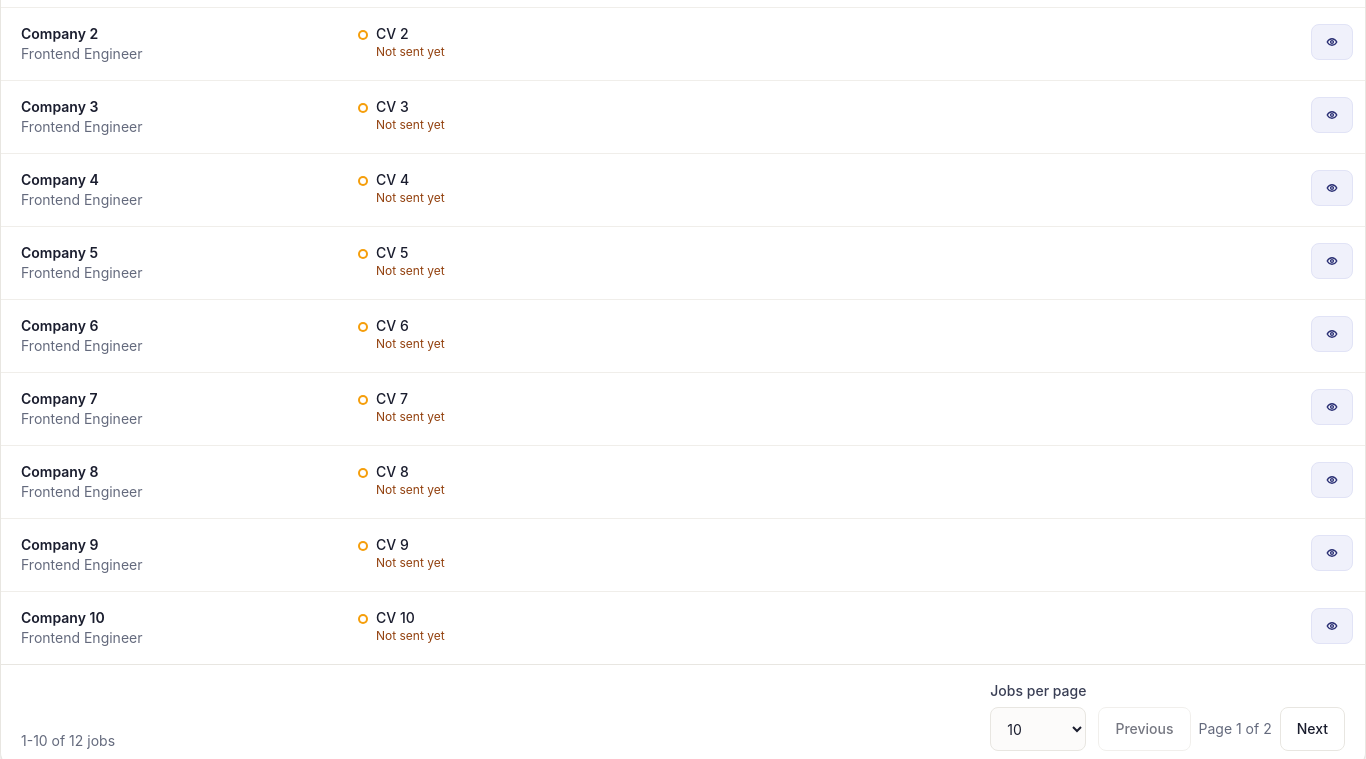
Test: ApplicationsPage › keeps paging and the chosen page size while a search narrows a long list
(page scrolled)
Select "25" in the dropdown labelled "Jobs per page" at (1038,729), box [990,707,1086,751]
(page scrolled)
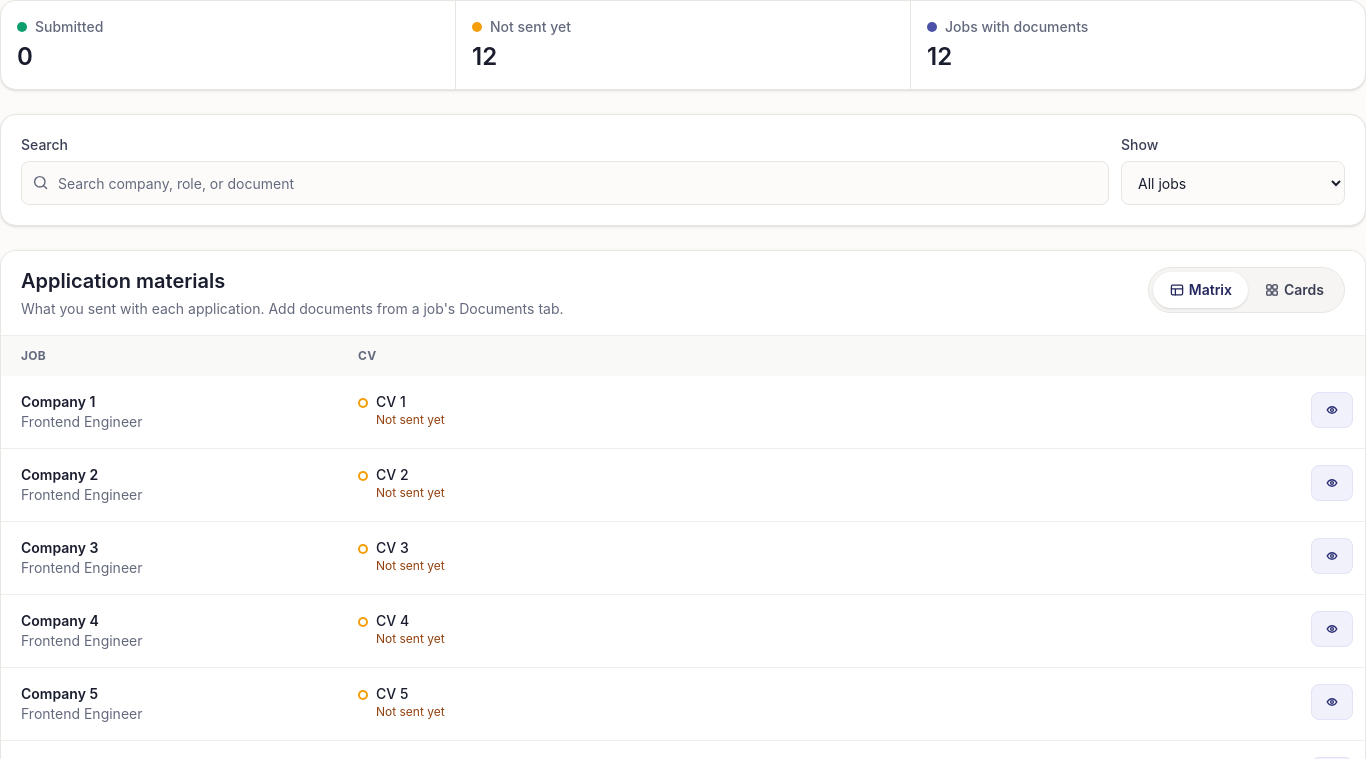
Type "Company 12" into the field labelled "Search" at (565,183), box [21,161,1109,205]
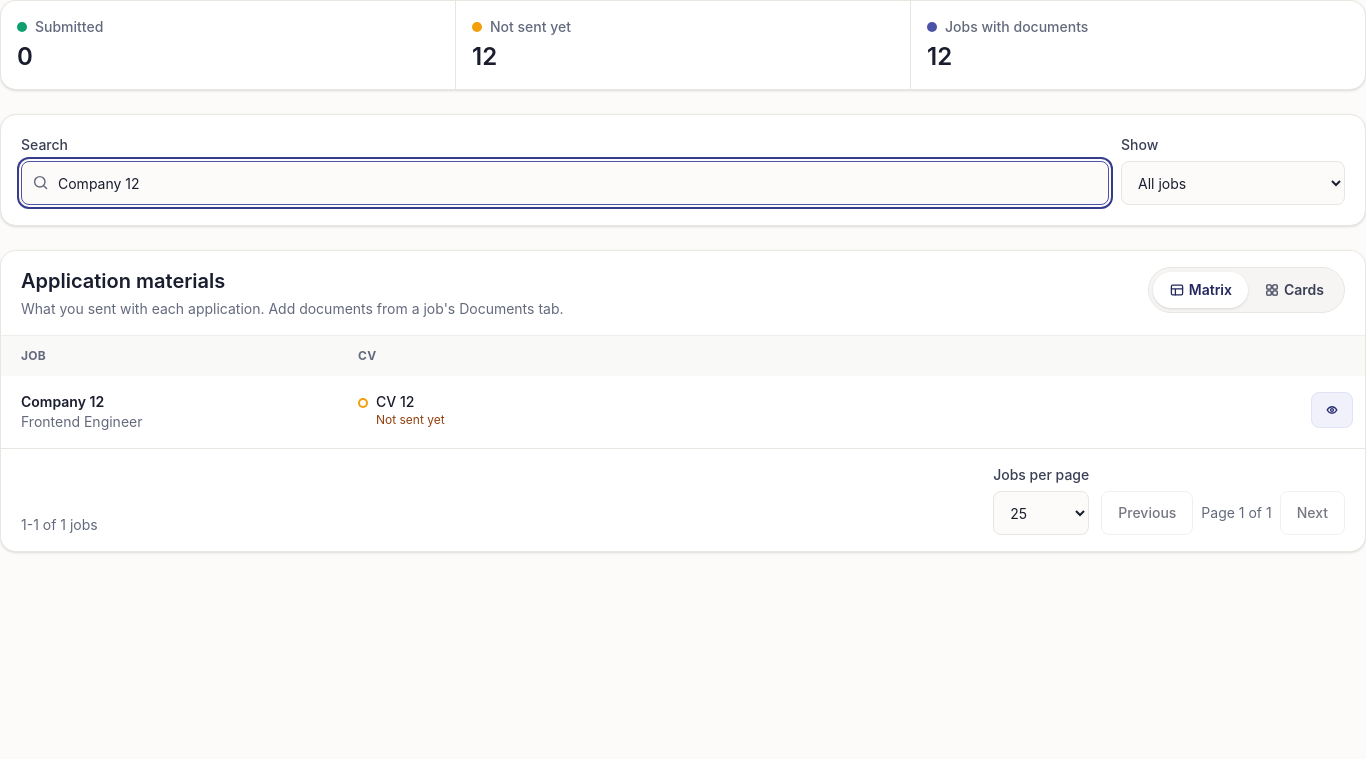
Expected: the text "1-1 of 1 jobs" is shown, [21,515,98,535]
